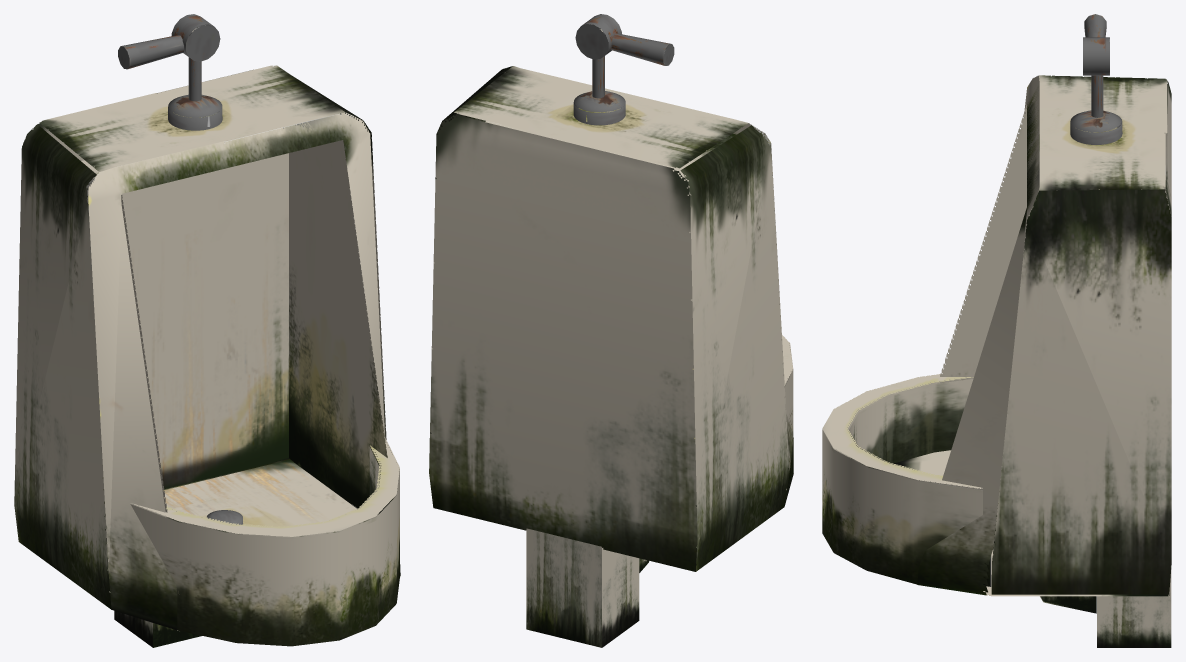
Rendered from urinal.FBX.
The picture shows the model from 3 angles, left to right: view 1: azimuth 30°, elevation 25°; view 2: azimuth 150°, elevation 25°; view 3: azimuth 270°, elevation 25°; orthographic projection. The views are drawn at different scales.
Parts seen in each view (by area): view 1: Box003, Tube004, Sphere001, Cylinder002, Cone001, Box009, Cylinder001; view 2: Box003, Box009, Sphere001, Cylinder002, Cone001, Tube004, Cylinder001; view 3: Box003, Tube004, Box009, Sphere001, Cylinder002, Box006, Cylinder001.
Part boxes in pixels (x1,y1,x2,y2): Box003: (14,65,400,630); Tube004: (130,438,399,646); Sphere001: (168,94,222,130); Cylinder002: (171,14,220,61); Cone001: (118,35,183,69); Box009: (114,611,202,647); Cylinder001: (188,27,201,101); Box003: (429,66,793,571); Box009: (526,528,639,647); Sphere001: (573,91,625,125); Cylinder002: (575,14,621,59); Cone001: (611,33,674,65); Tube004: (782,335,793,469); Cylinder001: (592,28,604,98); Box003: (893,75,1171,596); Tube004: (822,374,991,591); Box009: (1097,570,1171,647); Sphere001: (1070,110,1122,144); Cylinder002: (1083,37,1109,75); Box006: (1040,596,1096,613); Cylinder001: (1091,75,1103,117).
Size of the model in its own units: 52.97 by 110 by 59.11.
1 material, 1 textured.
